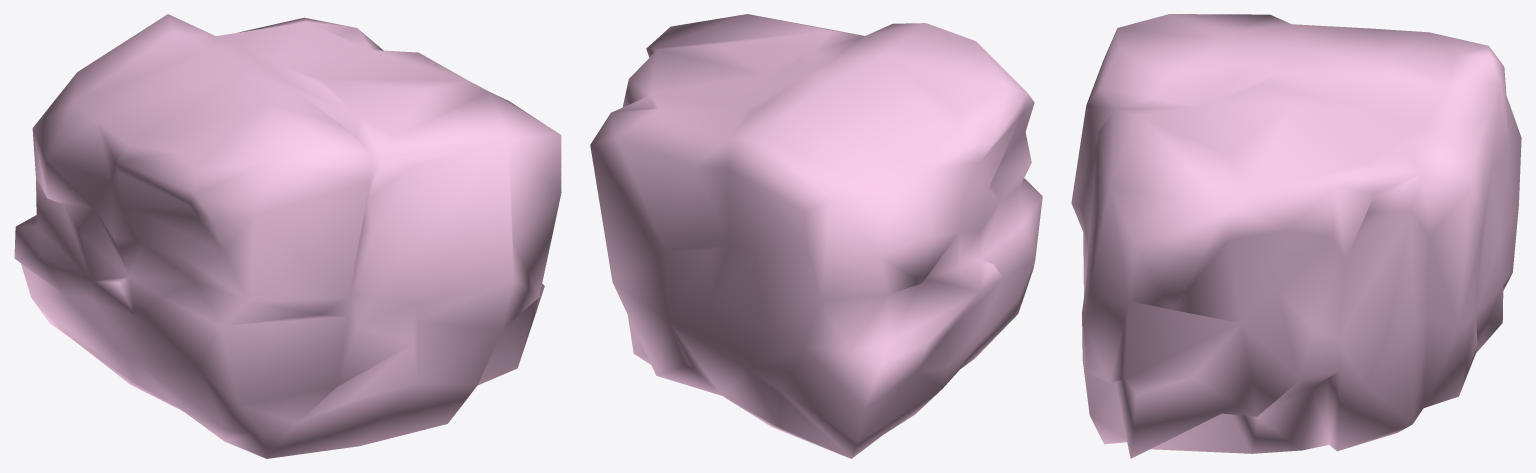
The model's file is rock_small_02.fbx.
3 views of the same model, side by side, from view 1: azimuth 30°, elevation 25°; view 2: azimuth 150°, elevation 25°; view 3: azimuth 270°, elevation 25° (orthographic). The views are drawn at different scales.
Parts seen in each view (by area): view 1: rock_small_02_LOD0; view 2: rock_small_02_LOD0; view 3: rock_small_02_LOD0.
Part boxes in pixels (<box>): rock_small_02_LOD0: <box>14,14,561,458</box>; rock_small_02_LOD0: <box>590,14,1042,458</box>; rock_small_02_LOD0: <box>1071,14,1521,458</box>.
Size of what is drawn, in the model's own units: 109 by 83.72 by 100.
